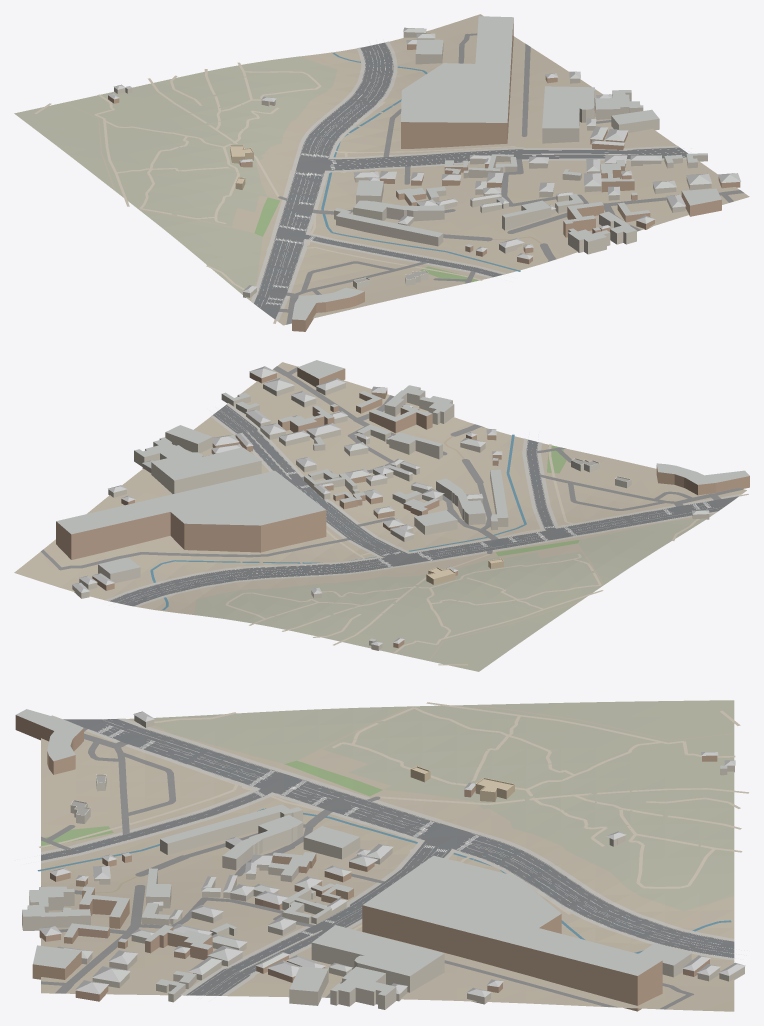
File: bolak_3_-3.glb
3 views of the same model, one above another, from view 1: azimuth 30°, elevation 25°; view 2: azimuth 150°, elevation 25°; view 3: azimuth 270°, elevation 25° (orthographic). The views are drawn at different scales.
Parts seen in each view (by area): view 1: Yer_Tuproq-col, Yer_Qabr, Tom_Shifer, Yol_Asfalt-col, Devor_Suvoq-col, Devor_Gisht-col, Trotuar, Yol_Mahalla-col, Yol_Piyoda, Yol_Chiziq, Suv, Yer_Maysa; view 2: Yer_Tuproq-col, Yer_Qabr, Tom_Shifer, Devor_Gisht-col, Yol_Asfalt-col, Devor_Suvoq-col, Yol_Mahalla-col, Trotuar, Yol_Piyoda, Yol_Chiziq, Suv, Yer_Maysa; view 3: Yer_Qabr, Yer_Tuproq-col, Tom_Shifer, Yol_Asfalt-col, Devor_Gisht-col, Devor_Suvoq-col, Trotuar, Yol_Piyoda, Yol_Mahalla-col, Yol_Chiziq, Yer_Maysa, Suv (+1 smaller).
Part boxes in pixels (x1,y1,x2,y2): Yer_Tuproq-col: [64, 14, 749, 325]; Yer_Qabr: [14, 56, 337, 299]; Tom_Shifer: [108, 16, 740, 320]; Yol_Asfalt-col: [254, 42, 687, 319]; Devor_Suvoq-col: [114, 32, 711, 297]; Devor_Gisht-col: [108, 18, 740, 331]; Trotuar: [251, 41, 686, 321]; Yol_Mahalla-col: [278, 33, 743, 324]; Yol_Piyoda: [34, 62, 516, 323]; Yol_Chiziq: [257, 39, 691, 307]; Suv: [321, 53, 520, 271]; Yer_Maysa: [254, 197, 479, 282]; Yer_Tuproq-col: [14, 362, 746, 660]; Yer_Qabr: [194, 515, 711, 671]; Tom_Shifer: [56, 360, 749, 645]; Devor_Gisht-col: [56, 367, 749, 648]; Yol_Asfalt-col: [109, 404, 738, 606]; Devor_Suvoq-col: [72, 383, 709, 650]; Yol_Mahalla-col: [41, 366, 743, 570]; Trotuar: [105, 403, 741, 606]; Yol_Piyoda: [225, 444, 748, 665]; Yol_Chiziq: [109, 406, 716, 607]; Suv: [150, 434, 526, 609]; Yer_Maysa: [496, 445, 579, 556]; Yer_Qabr: [131, 700, 734, 911]; Yer_Tuproq-col: [41, 705, 734, 1011]; Tom_Shifer: [16, 709, 745, 997]; Yol_Asfalt-col: [41, 719, 734, 995]; Devor_Gisht-col: [15, 715, 717, 1011]; Devor_Suvoq-col: [22, 715, 744, 1009]; Trotuar: [41, 718, 734, 995]; Yol_Piyoda: [39, 702, 748, 929]; Yol_Mahalla-col: [41, 727, 693, 1009]; Yol_Chiziq: [15, 719, 749, 1001]; Yer_Maysa: [41, 760, 382, 847]; Suv: [37, 808, 731, 953].
Size of what is drawn, in the model's own units: 418 by 25.45 by 425.
